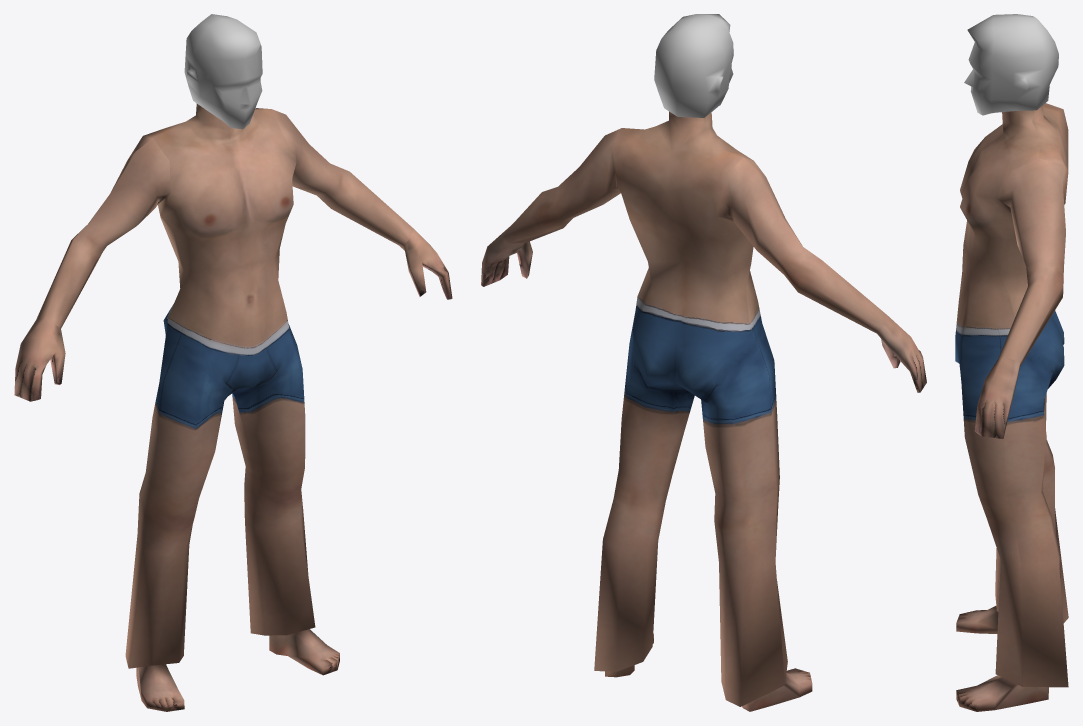
The model's file is male_pants_base.fbx.
3 renders of one model, left to right at view 1: azimuth 30°, elevation 25°; view 2: azimuth 150°, elevation 25°; view 3: azimuth 270°, elevation 25°, orthographic. The views are drawn at different scales.
Parts seen in each view (by area): view 1: male_body_pants, male_head_base.001; view 2: male_body_pants, male_head_base.001; view 3: male_body_pants, male_head_base.001.
Part boxes in pixels (box(x1,y1,x2,y2)): male_body_pants: box(14, 103, 452, 711); male_head_base.001: box(184, 14, 262, 129); male_body_pants: box(481, 111, 926, 711); male_head_base.001: box(654, 14, 733, 117); male_body_pants: box(955, 103, 1068, 711); male_head_base.001: box(964, 14, 1058, 115).
Bounding box in the file's own units: 127 × 183 × 29.09.
